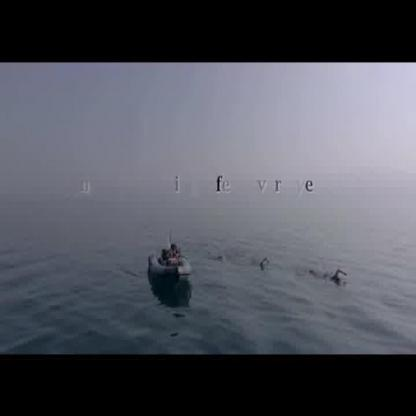Boat: (142, 238, 194, 281)
